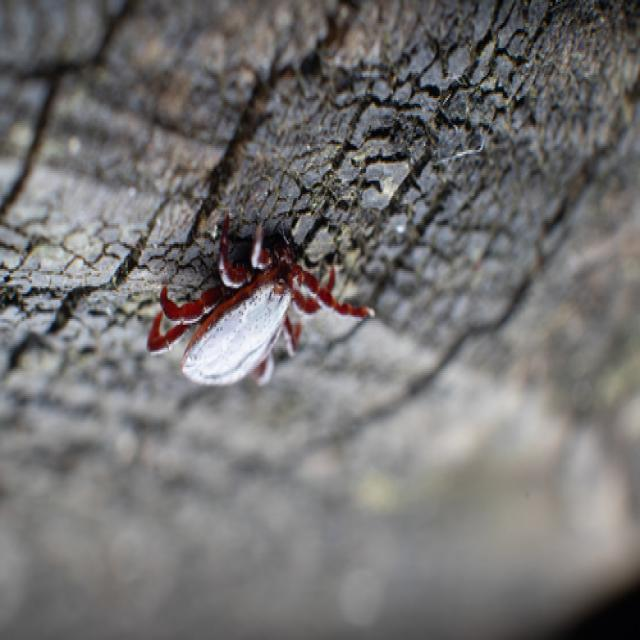Dermacentor Reticulatus-M: (147, 213, 374, 384)
